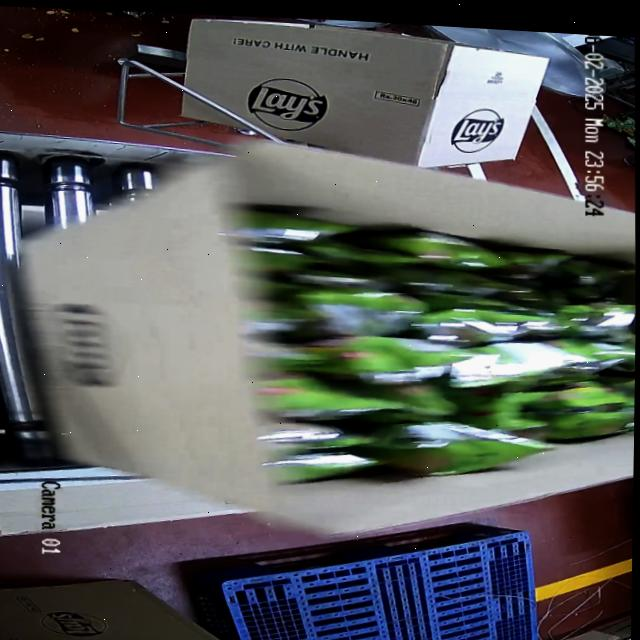YOGURT_HERB: (258, 196, 637, 486)
